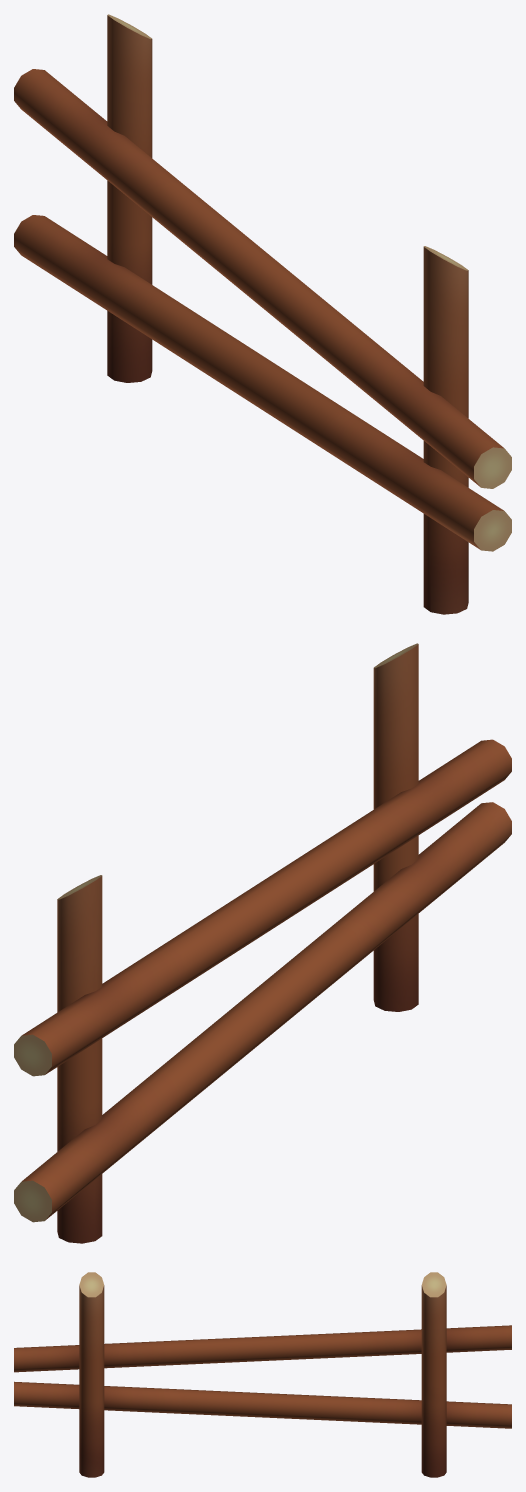
File: Fence.fbx
3 views of the same model, one above another, from view 1: azimuth 30°, elevation 25°; view 2: azimuth 150°, elevation 25°; view 3: azimuth 270°, elevation 25° (orthographic). The views are drawn at different scales.
Visible parts, largest first — view 1: Fence; view 2: Fence; view 3: Fence.
Boxes of the visible parts, <box> form: Fence: <box>14,14,511,614</box>; Fence: <box>14,643,511,1243</box>; Fence: <box>14,1272,511,1477</box>.
Size of the model in its own units: 25.22 by 138 by 320.
